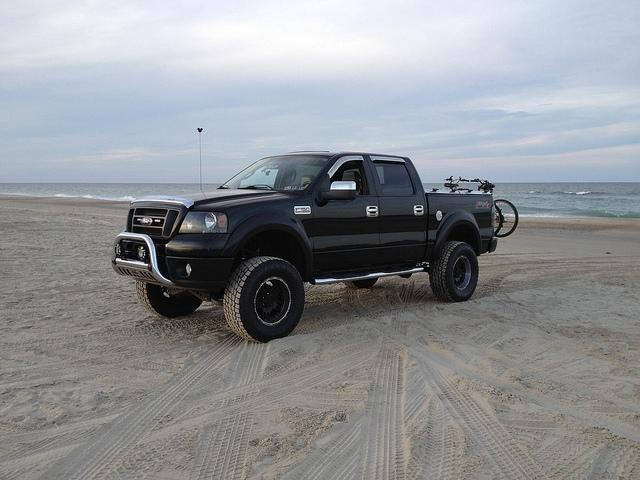bicycle: (453, 176, 519, 236)
truck: (111, 148, 499, 346)
